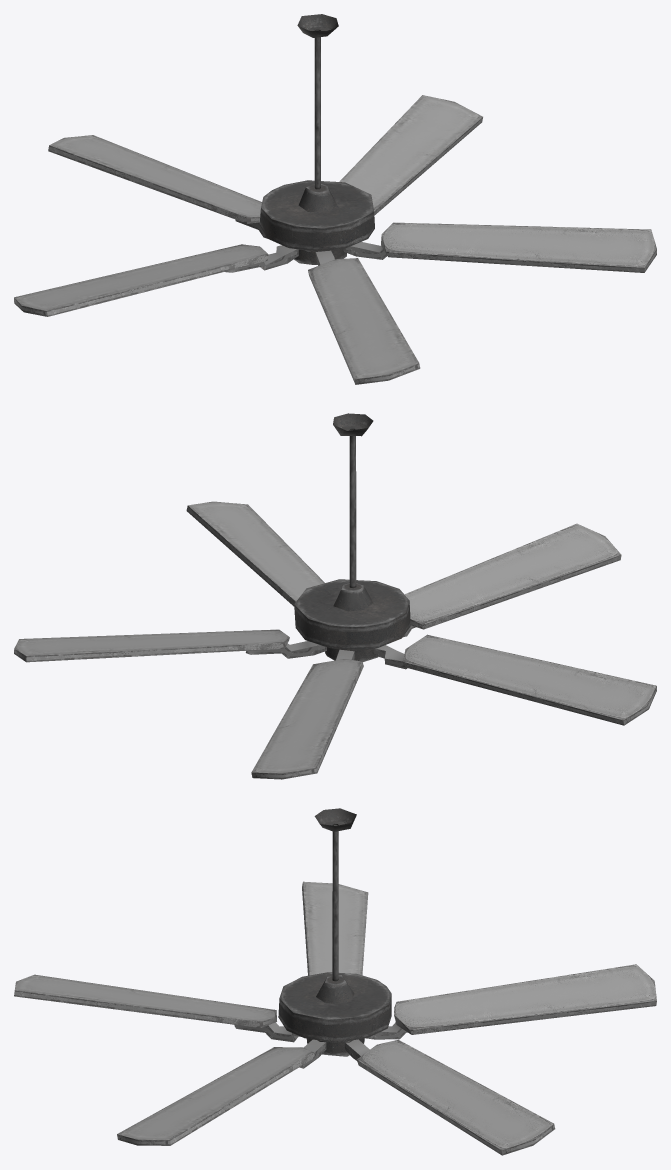
The model's file is SM_Ceiling_Fan.fbx.
The picture shows the model from 3 angles, top to bottom: view 1: azimuth 30°, elevation 25°; view 2: azimuth 150°, elevation 25°; view 3: azimuth 270°, elevation 25°; orthographic projection.
Visible parts, largest first — view 1: SM_Ceiling_Fan_LOD0; view 2: SM_Ceiling_Fan_LOD0; view 3: SM_Ceiling_Fan_LOD0.
Part boxes in pixels (x1,y1,x2,y2): SM_Ceiling_Fan_LOD0: (14,14,656,384); SM_Ceiling_Fan_LOD0: (14,413,656,779); SM_Ceiling_Fan_LOD0: (14,808,656,1155).
Size of the model in its own units: 157 by 163 by 64.14.
Materials: 1 (1 with a texture image).
